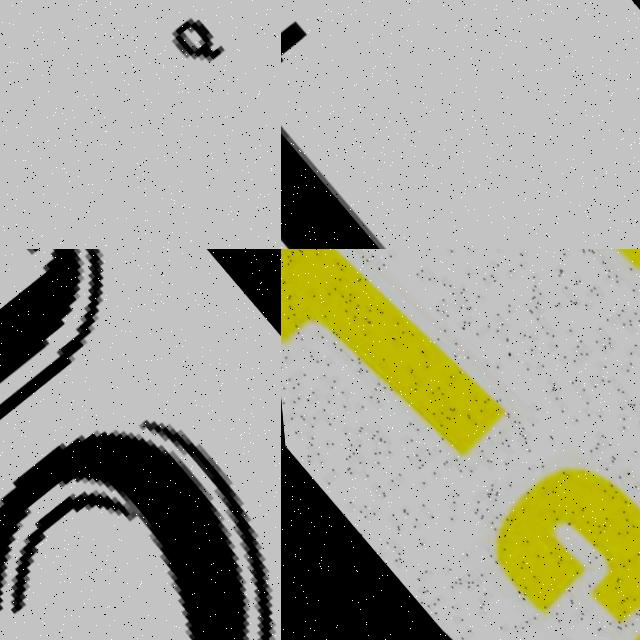1: (281, 249, 523, 515)
3: (429, 400, 640, 640)
5: (0, 249, 281, 640)
L: (281, 0, 640, 249)
Q: (147, 0, 227, 75)
